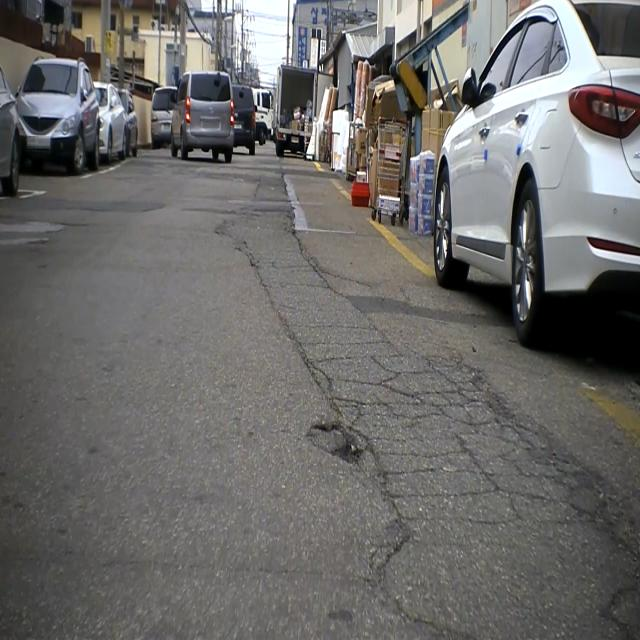Pothole: (296, 409, 368, 484)
